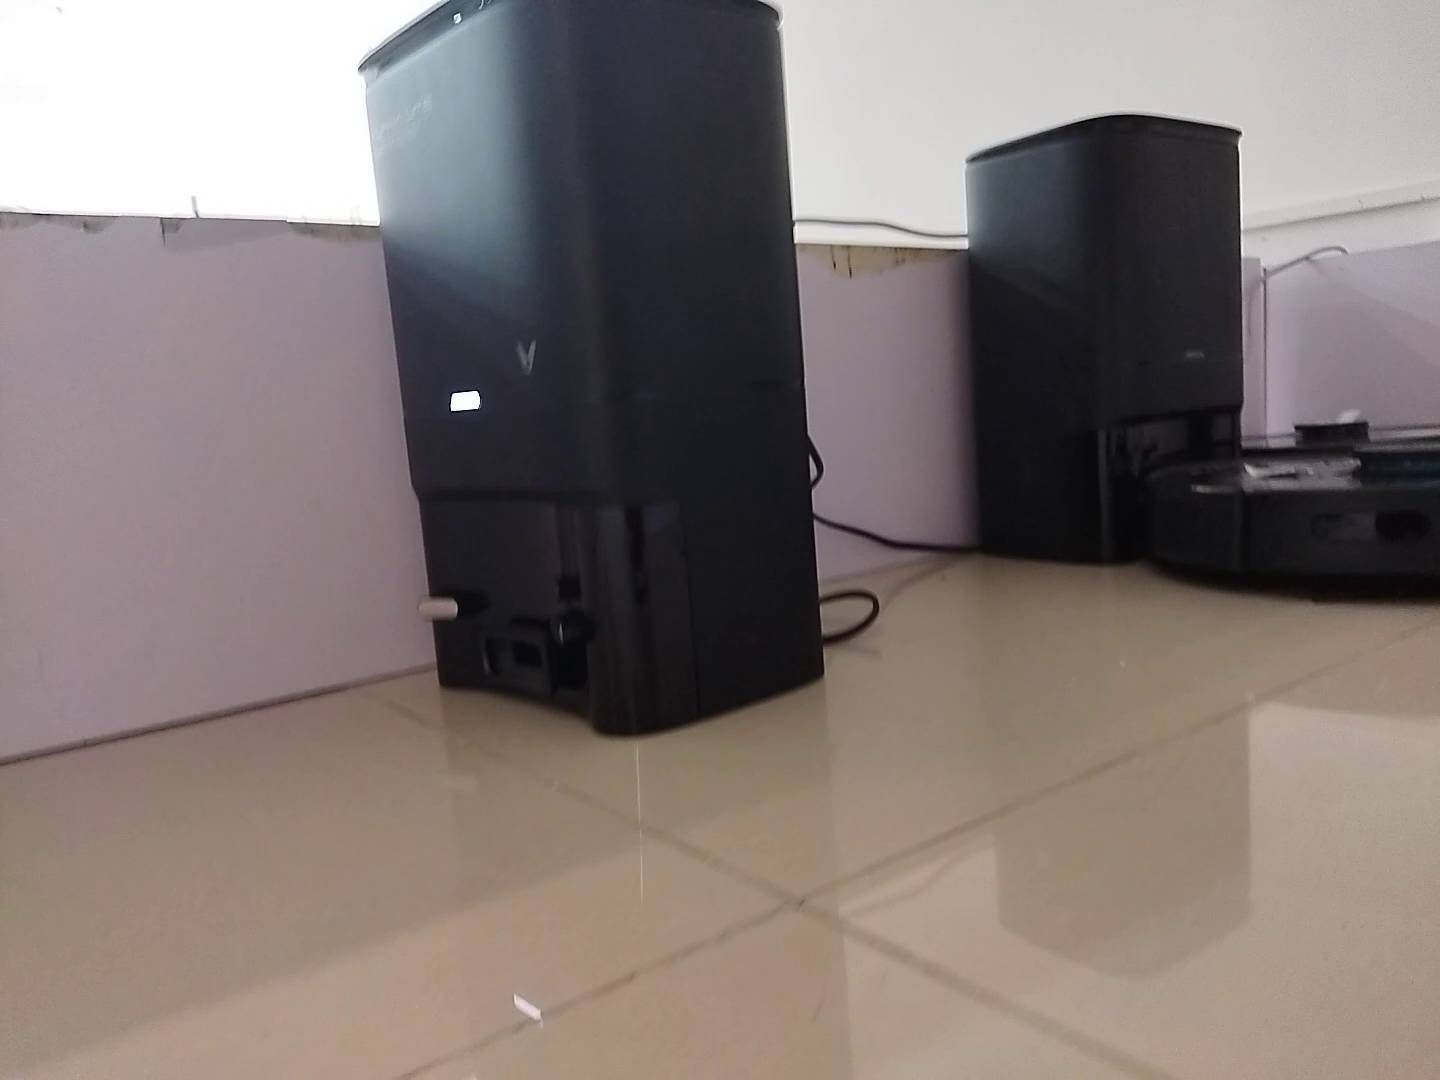dust collecting barrel: (358, 1, 825, 739), (967, 113, 1247, 569)
